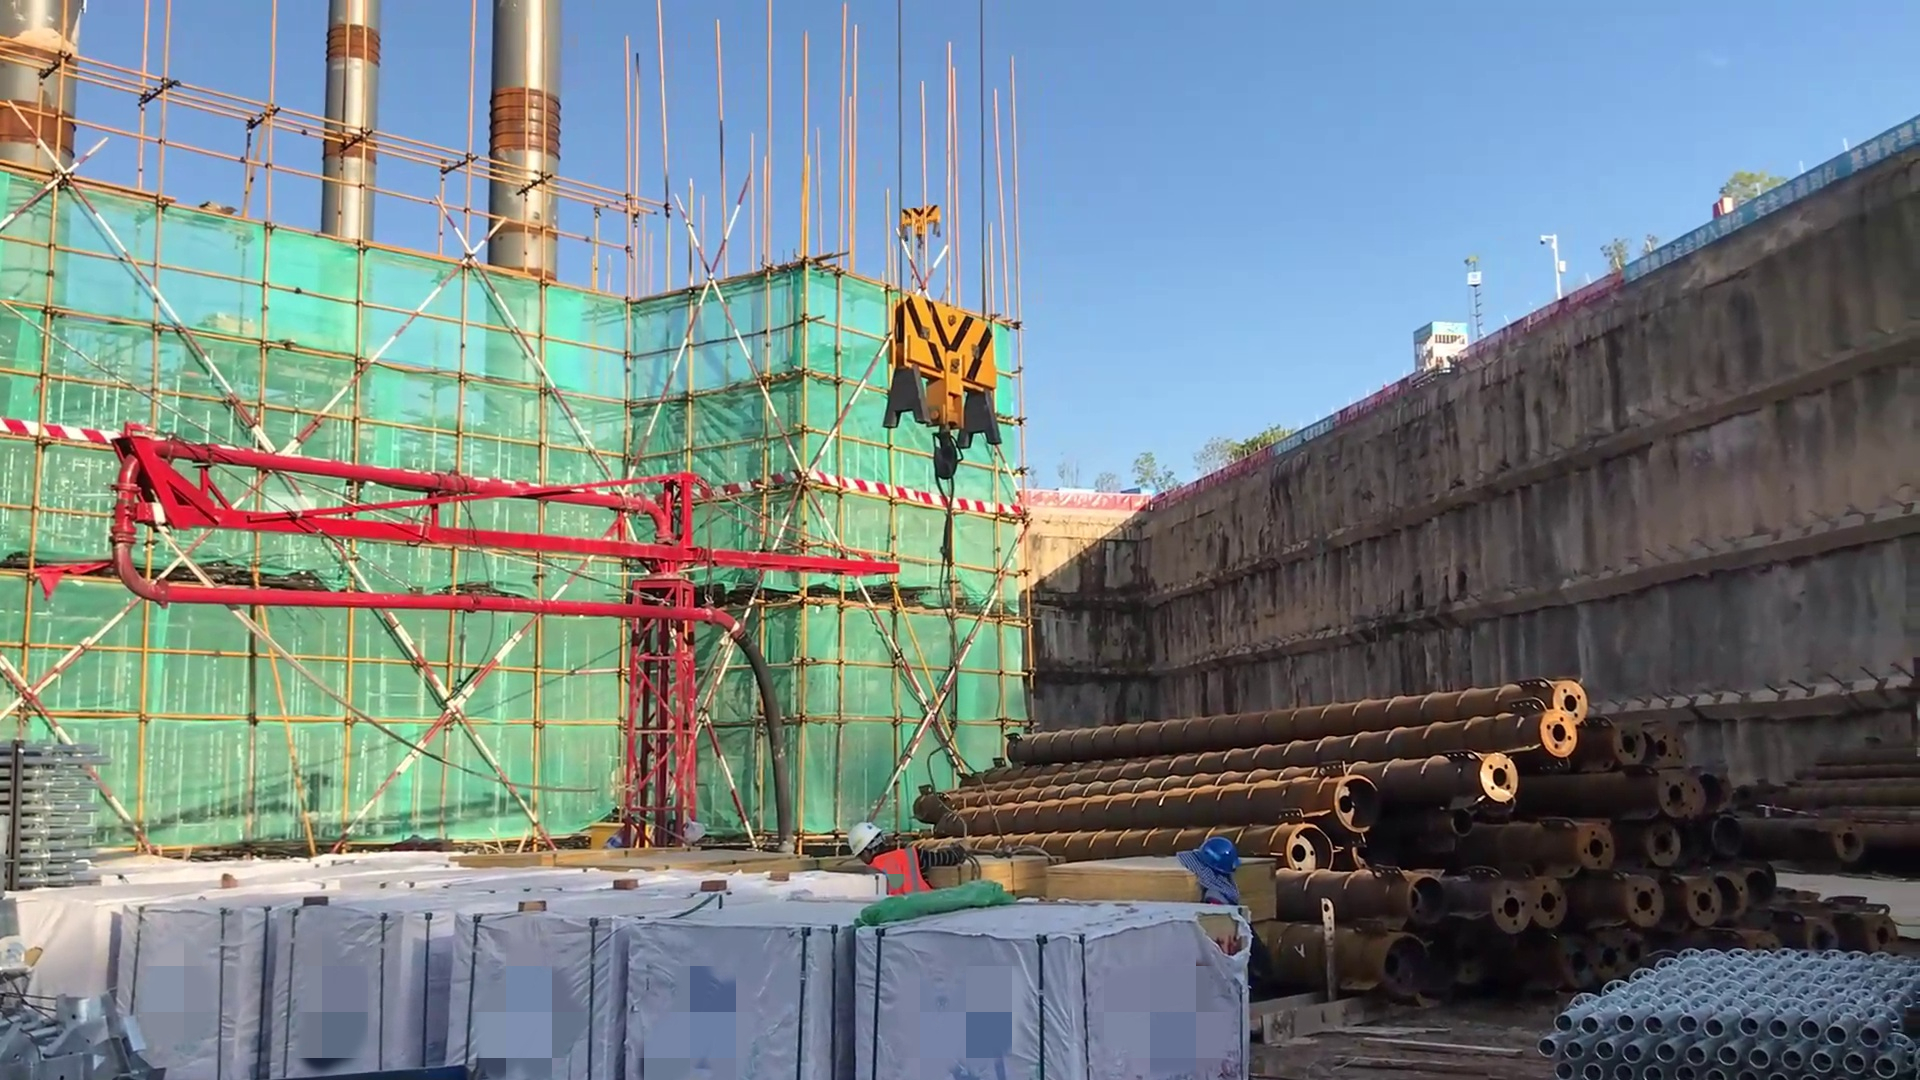board: (1047, 849, 1233, 923), (935, 854, 1063, 908)
ebox: (575, 819, 661, 863)
helmet: (1190, 833, 1243, 887), (847, 819, 901, 859)
hook: (875, 273, 1048, 541), (880, 180, 961, 252)
person: (1177, 823, 1291, 1076), (837, 809, 973, 931)
scaffold: (1533, 927, 1920, 1079), (1, 734, 133, 886)
slogan: (1616, 116, 1920, 294), (1266, 416, 1345, 470)
vest: (851, 841, 939, 893)
